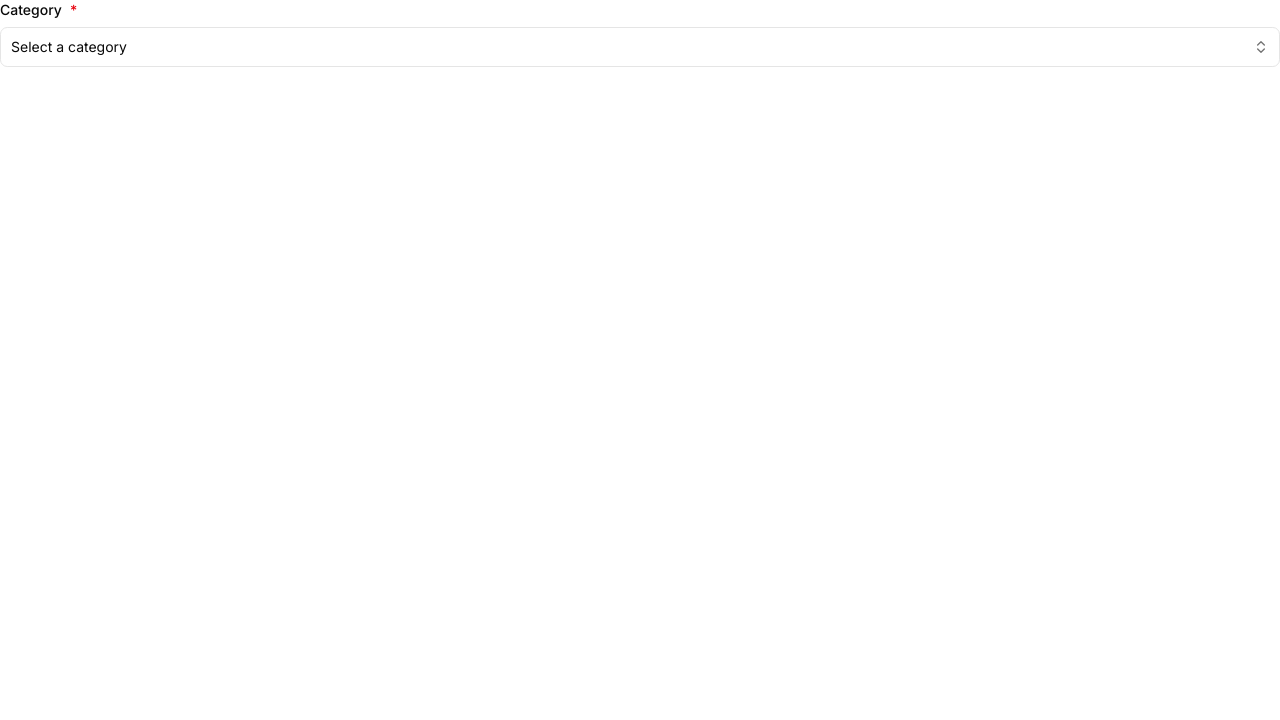
Test: active category selector › shows a useful empty state
Click the dropdown labelled "category" at (69, 47), box [0, 27, 1279, 67]
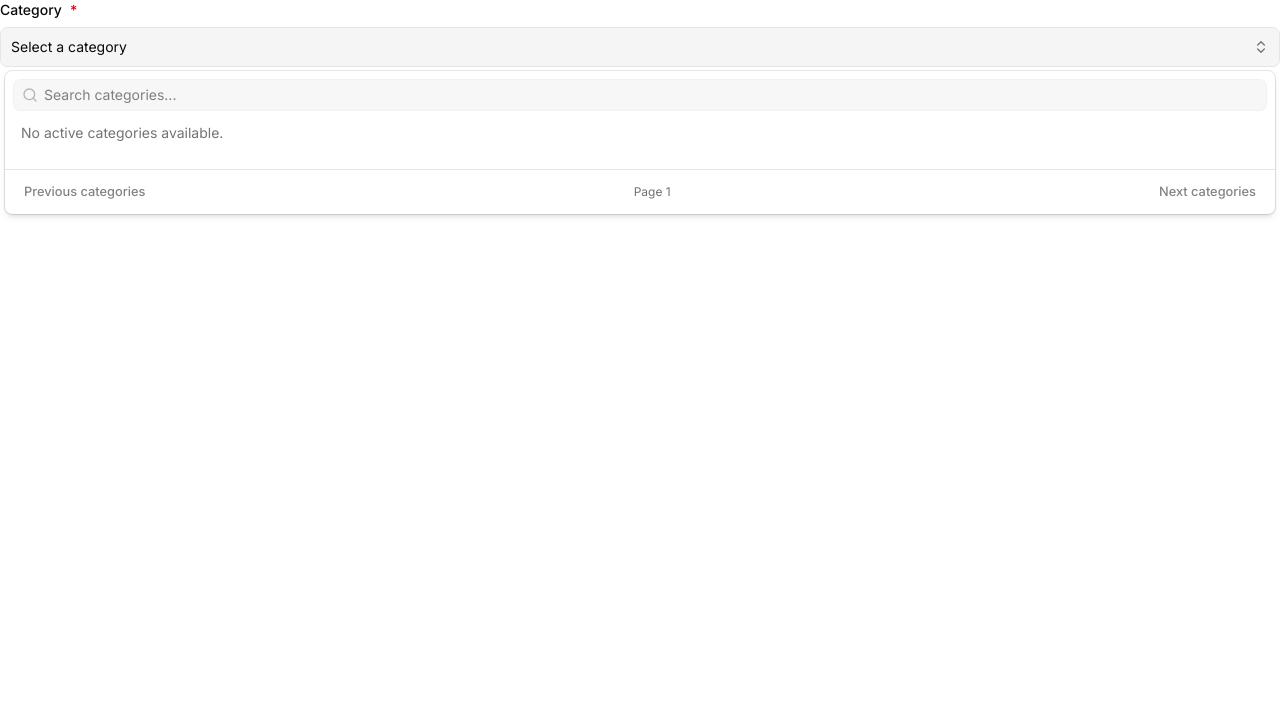
Now the text "No active categories available." is shown, box [21, 124, 223, 141]
